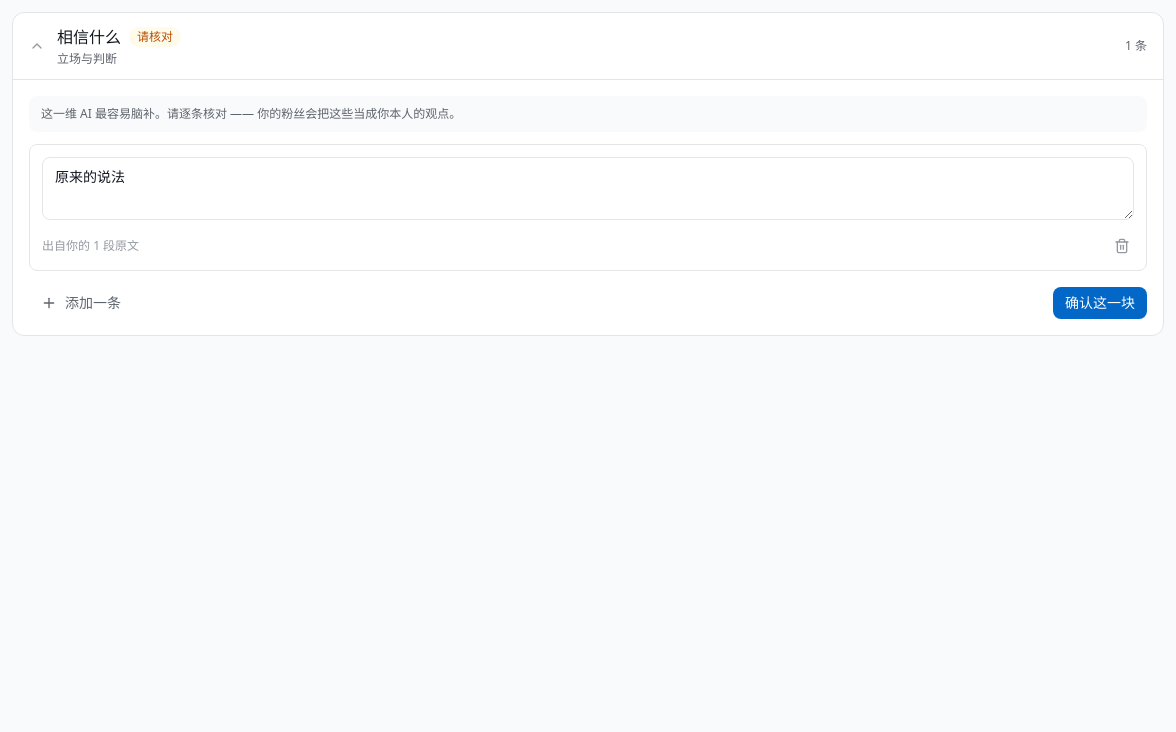
Test: DimensionCard 的确认 › 有空条目：不发请求，就近提示
Click the button "添加一条": (81, 303) [29, 287, 133, 319]
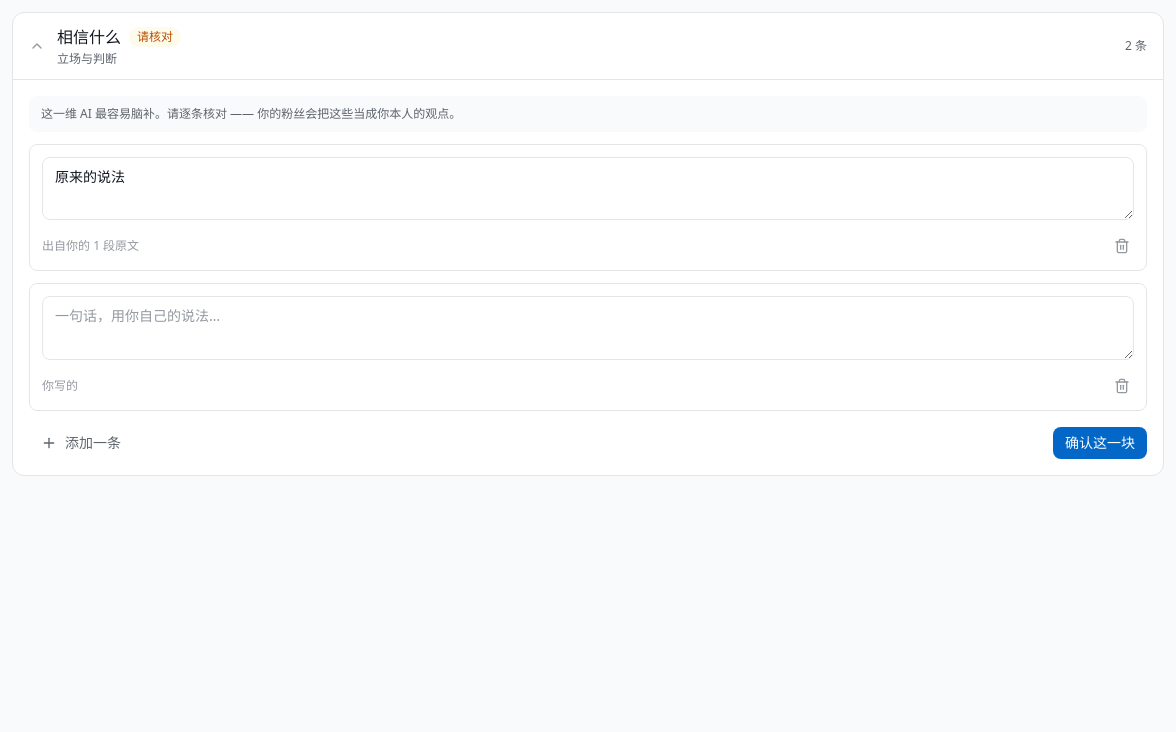
Click the button "确认这一块": (1100, 442) [1053, 426, 1147, 458]
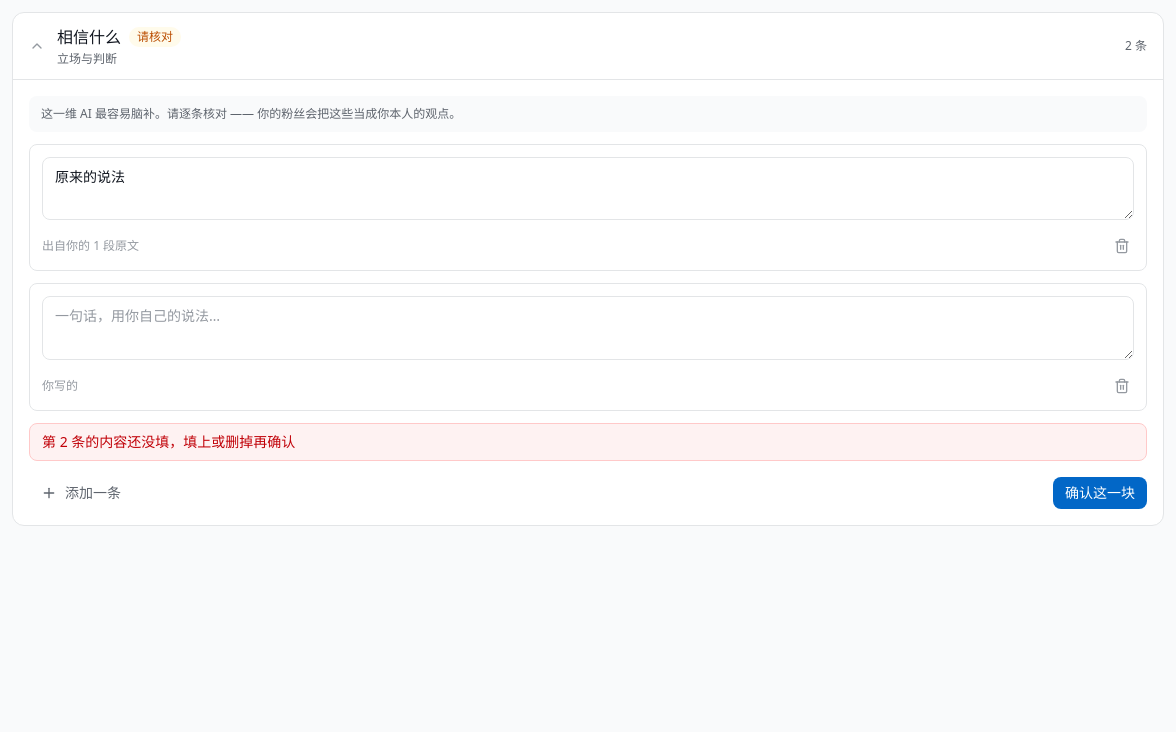
Expected: the text "第 2 条的内容还没填，填上或删掉再确认" is shown, [29, 422, 1147, 460]
